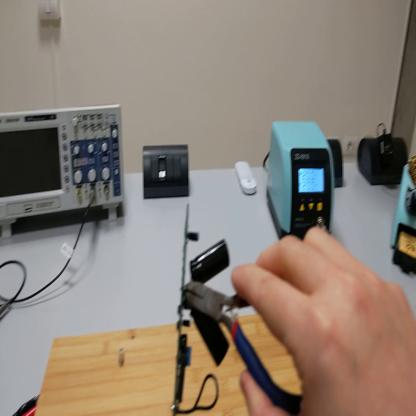hand: (230, 226, 416, 416)
high voltage board: (176, 203, 235, 416)
oscilloscope: (3, 103, 126, 239)
pliers: (188, 279, 307, 411)
socket: (358, 132, 412, 190), (328, 140, 345, 192)
welder base: (391, 158, 416, 279)
welder station: (265, 123, 336, 248)
working area: (37, 317, 303, 416)
